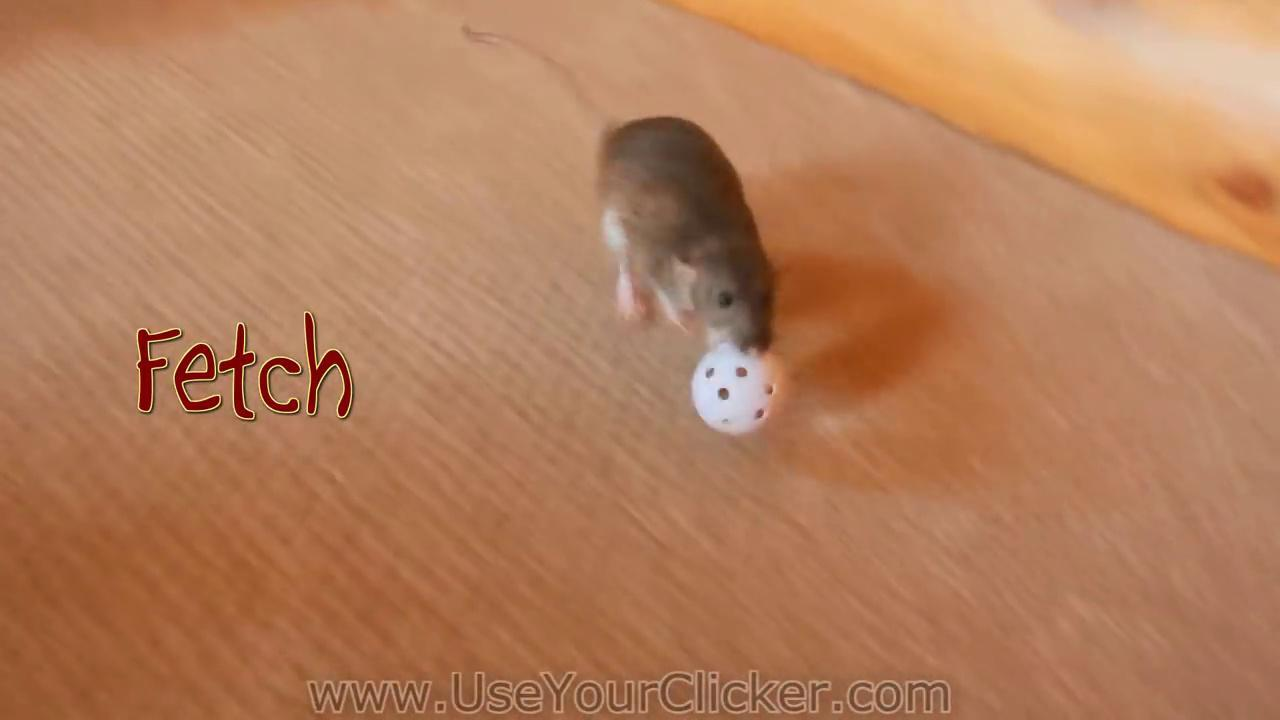rat: (458, 29, 775, 357)
